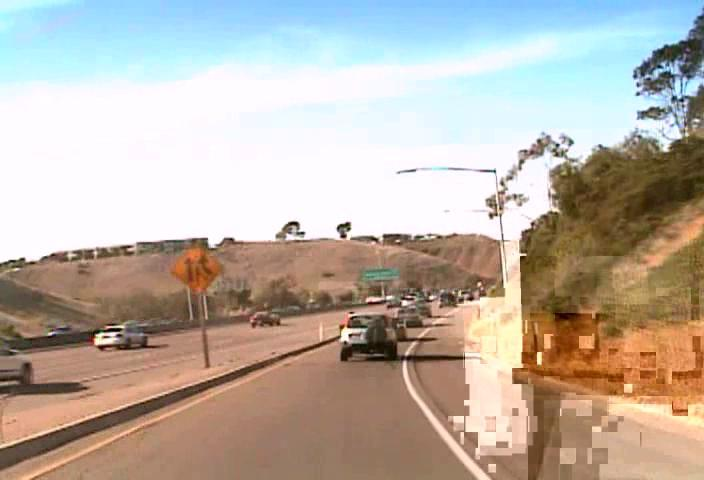addedLane: (170, 241, 224, 295)
